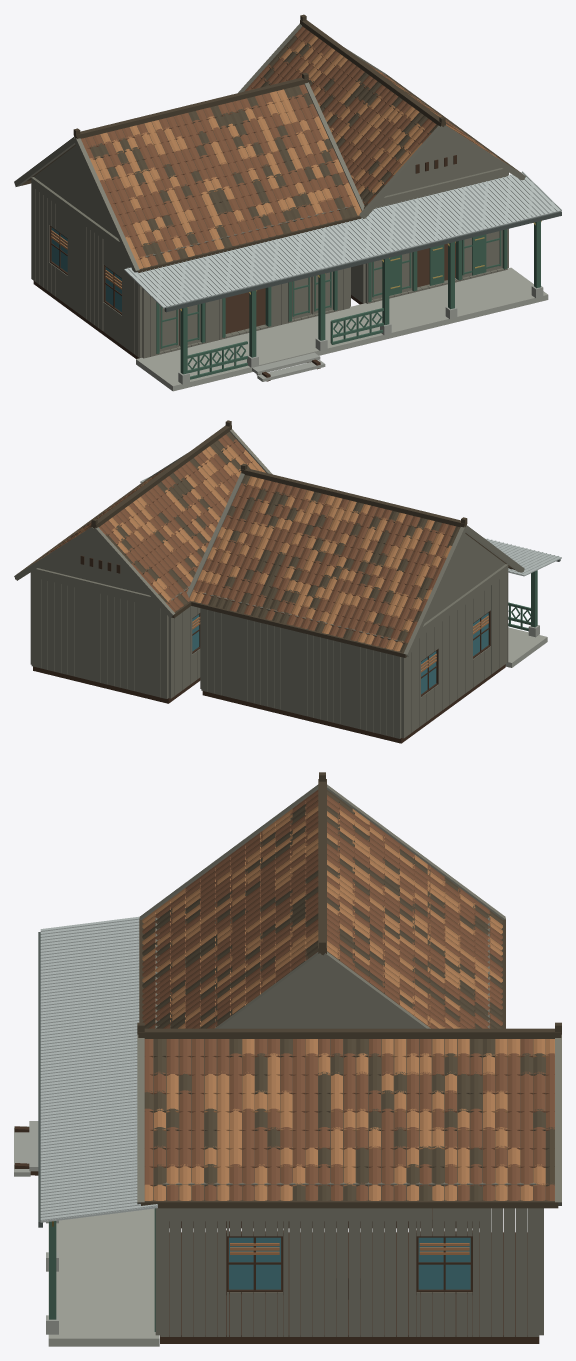
Rendered from traditional-rural-timber.glb.
The picture shows the model from 3 angles, top to bottom: view 1: azimuth 30°, elevation 25°; view 2: azimuth 150°, elevation 25°; view 3: azimuth 270°, elevation 25°; orthographic projection. The views are drawn at different scales.
Visible parts, largest first — view 1: roof_tiles__old_tile.001, porch_awning__awning_sheet.001, walls__weathered_wood.001, roof_tiles__old_tile_light.001, veranda__porch_tile, roof_tiles__old_tile_dark.001, gable_walls__weathered_wood.001, roof__old_tile_dark.001, roof_trim__weathered_wood.001, door_panels__weathered_wood, roof_ridge__old_tile_dark.001, veranda_posts__paint_green (+11 smaller); view 2: walls__weathered_wood.001, roof_tiles__old_tile.001, roof_tiles__old_tile_light.001, roof_tiles__old_tile_dark.001, gable_walls__weathered_wood.001, roof__old_tile_dark.001, roof_trim__weathered_wood.001, roof_ridge__old_tile_dark.001, floors__timber_dark.001, roof_trim__old_tile_dark.001, porch_awning__awning_sheet.001, glazing__glass.001 (+3 smaller); view 3: roof_tiles__old_tile.001, walls__weathered_wood.001, roof_tiles__old_tile_light.001, porch_awning__awning_sheet.001, roof_tiles__old_tile_dark.001, veranda__porch_tile, roof__old_tile_dark.001, roof_trim__weathered_wood.001, roof_ridge__old_tile_dark.001, gable_walls__weathered_wood.001, floors__timber_dark.001, glazing__glass.001 (+6 smaller).
Part boxes in pixels (x1,y1,x2,y2): roof_tiles__old_tile.001: (81,26,504,265); porch_awning__awning_sheet.001: (124,171,561,308); walls__weathered_wood.001: (31,74,508,358); roof_tiles__old_tile_light.001: (89,35,496,268); veranda__porch_tile: (136,267,548,391); roof_tiles__old_tile_dark.001: (90,34,492,263); gable_walls__weathered_wood.001: (34,131,501,238); roof__old_tile_dark.001: (27,29,436,266); roof_trim__weathered_wood.001: (14,23,525,272); door_panels__weathered_wood: (159,230,502,351); roof_ridge__old_tile_dark.001: (73,14,445,138); veranda_posts__paint_green: (180,221,540,374); walls__weathered_wood.001: (30,478,508,738); roof_tiles__old_tile.001: (39,434,455,647); roof_tiles__old_tile_light.001: (34,445,451,651); roof_tiles__old_tile_dark.001: (43,432,460,652); gable_walls__weathered_wood.001: (38,533,505,623); roof__old_tile_dark.001: (100,434,511,650); roof_trim__weathered_wood.001: (14,429,524,656); roof_ridge__old_tile_dark.001: (91,420,467,528); floors__timber_dark.001: (33,664,505,743); roof_trim__old_tile_dark.001: (15,478,514,657); porch_awning__awning_sheet.001: (140,477,561,576); glazing__glass.001: (192,612,488,694); roof_tiles__old_tile.001: (142,790,554,1200); walls__weathered_wood.001: (155,917,543,1336); roof_tiles__old_tile_light.001: (142,806,554,1200); porch_awning__awning_sheet.001: (40,916,157,1222); roof_tiles__old_tile_dark.001: (142,790,554,1200); veranda__porch_tile: (48,1208,159,1346); roof__old_tile_dark.001: (145,795,545,1199); roof_trim__weathered_wood.001: (137,784,561,1205); roof_ridge__old_tile_dark.001: (137,772,561,1038); gable_walls__weathered_wood.001: (232,961,412,1028); floors__timber_dark.001: (160,1208,539,1343); glazing__glass.001: (229,1237,470,1289).
Size of the model in its own units: 12.75 by 6.08 by 10.11.
